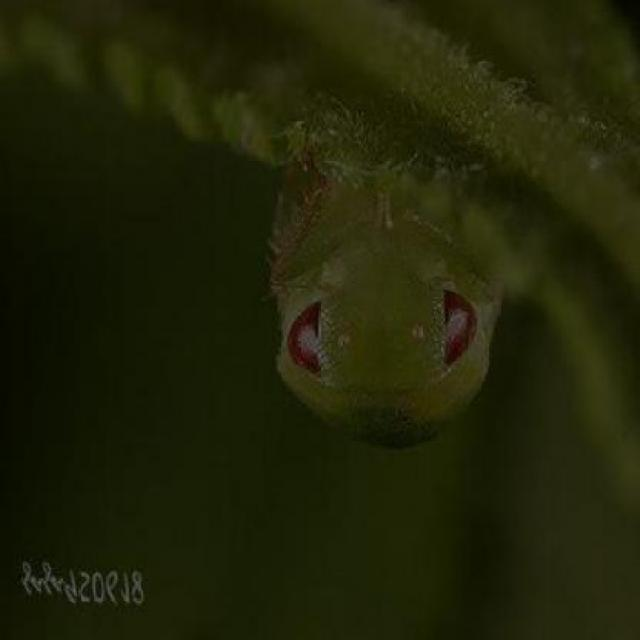green-leafhopper: (265, 154, 512, 451)
